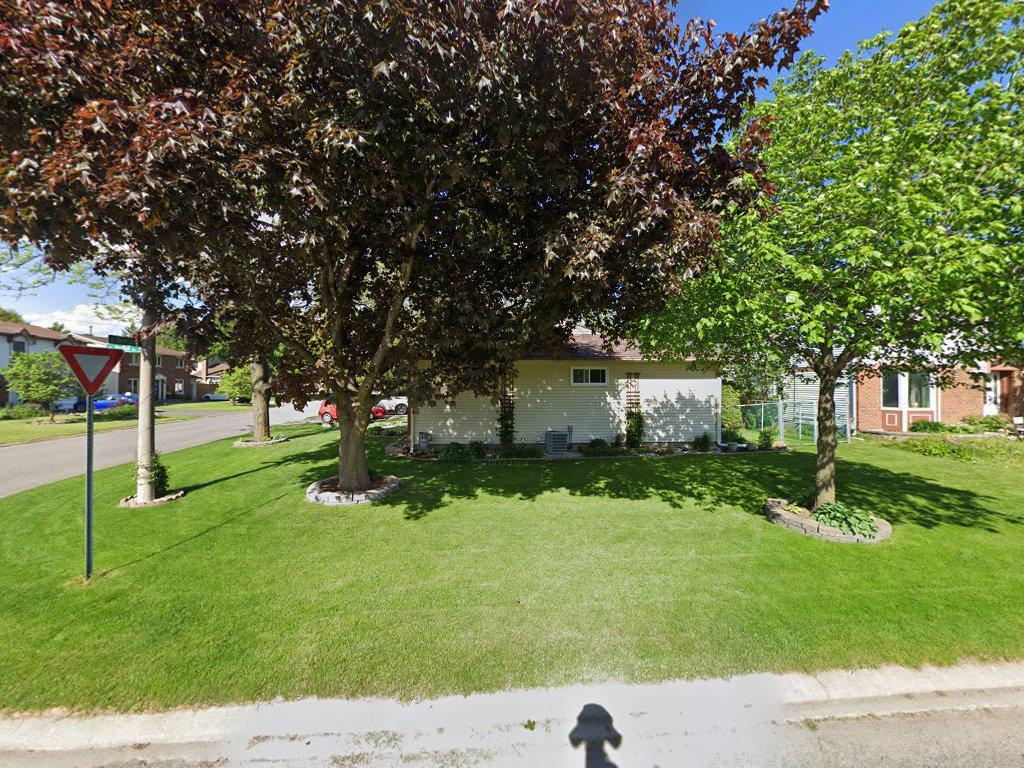trunk: (805, 346, 855, 547), (331, 365, 380, 510)
